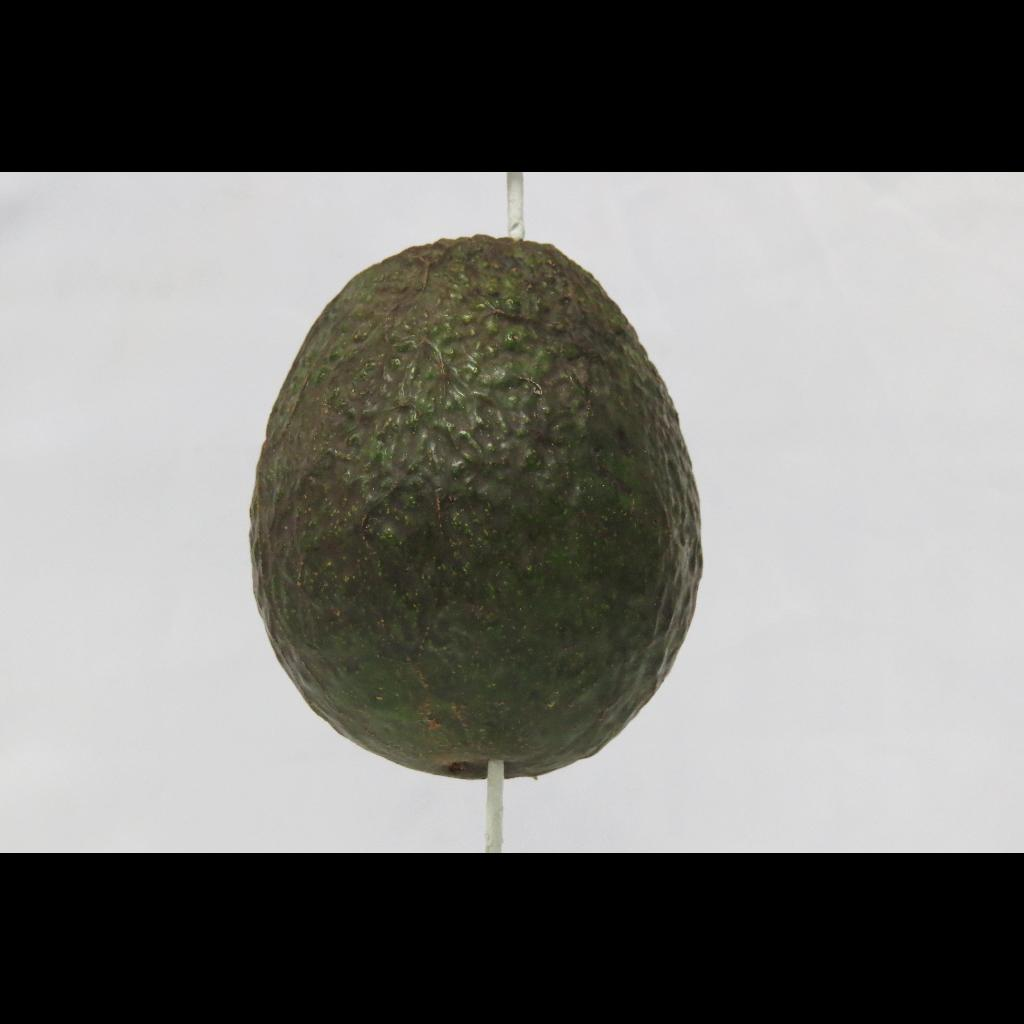fruto_sano: (204, 224, 770, 796)
